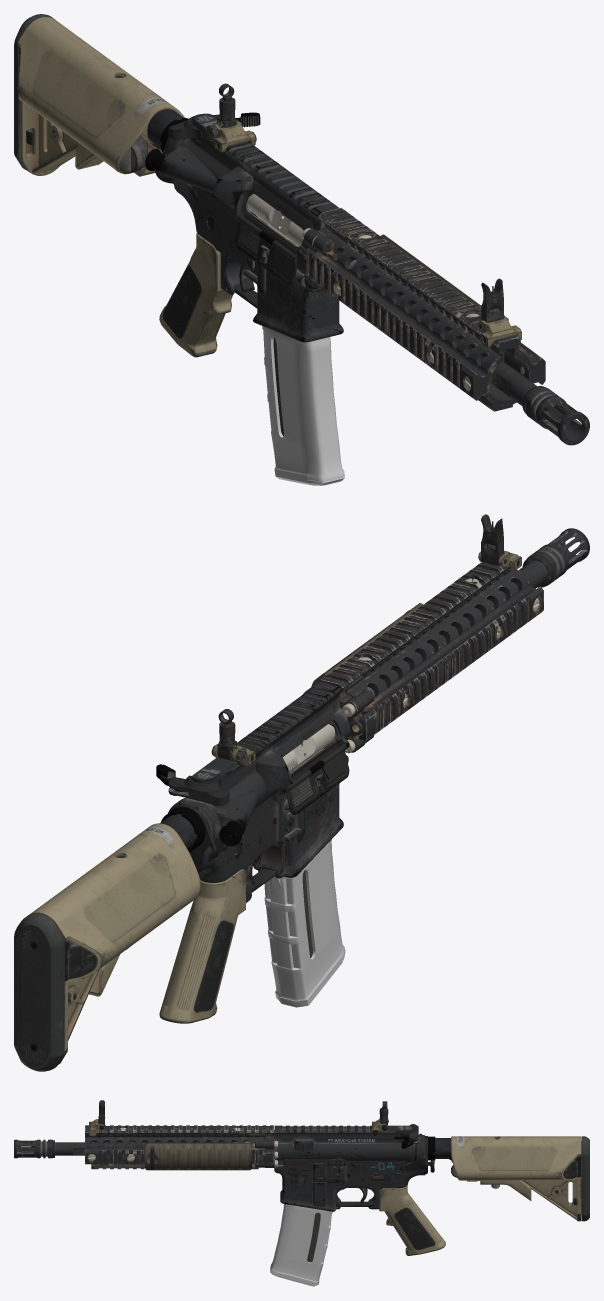
The picture shows the model from 3 angles, top to bottom: view 1: azimuth 30°, elevation 25°; view 2: azimuth 150°, elevation 25°; view 3: azimuth 270°, elevation 25°; orthographic projection. The views are drawn at different scales.
Visible parts, largest first — view 1: attachment_vm_ar_mike4_receiver.001, attachment_vm_ar_mike4_barrel.001, attachment_vm_ar_mike4_stock.001, attachment_vm_ar_mike4_mag.001, attachment_vm_ar_mike4_barrel_tip_01.001, attachment_vm_ar_mike4_ejectioncover_hide.001, attachment_vm_ar_mike4_tag_sight_on2_01.001, attachment_vm_ar_mike4_tag_sight_on.001; view 2: attachment_vm_ar_mike4_receiver.001, attachment_vm_ar_mike4_stock.001, attachment_vm_ar_mike4_barrel.001, attachment_vm_ar_mike4_mag.001, attachment_vm_ar_mike4_ejectioncover_hide.001, attachment_vm_ar_mike4_barrel_tip_01.001, attachment_vm_ar_mike4_tag_sight_on2_01.001, attachment_vm_ar_mike4_tag_sight_on.001; view 3: attachment_vm_ar_mike4_receiver.001, attachment_vm_ar_mike4_barrel.001, attachment_vm_ar_mike4_stock.001, attachment_vm_ar_mike4_mag.001, attachment_vm_ar_mike4_barrel_tip_01.001, attachment_vm_ar_mike4_tag_sight_on.001, attachment_vm_ar_mike4_tag_sight_on2_01.001.
Boxes of the visible parts, bbox=[...] form: attachment_vm_ar_mike4_receiver.001: bbox=[145, 112, 343, 357]; attachment_vm_ar_mike4_barrel.001: bbox=[295, 207, 545, 413]; attachment_vm_ar_mike4_stock.001: bbox=[14, 14, 185, 176]; attachment_vm_ar_mike4_mag.001: bbox=[262, 225, 344, 485]; attachment_vm_ar_mike4_barrel_tip_01.001: bbox=[526, 387, 589, 445]; attachment_vm_ar_mike4_ejectioncover_hide.001: bbox=[235, 214, 296, 285]; attachment_vm_ar_mike4_tag_sight_on2_01.001: bbox=[478, 278, 521, 347]; attachment_vm_ar_mike4_tag_sight_on.001: bbox=[206, 83, 256, 152]; attachment_vm_ar_mike4_receiver.001: bbox=[156, 681, 350, 1023]; attachment_vm_ar_mike4_stock.001: bbox=[14, 814, 200, 1071]; attachment_vm_ar_mike4_barrel.001: bbox=[303, 553, 553, 753]; attachment_vm_ar_mike4_mag.001: bbox=[264, 748, 345, 1007]; attachment_vm_ar_mike4_ejectioncover_hide.001: bbox=[282, 744, 349, 814]; attachment_vm_ar_mike4_barrel_tip_01.001: bbox=[527, 528, 589, 585]; attachment_vm_ar_mike4_tag_sight_on2_01.001: bbox=[478, 514, 521, 570]; attachment_vm_ar_mike4_tag_sight_on.001: bbox=[211, 709, 255, 765]; attachment_vm_ar_mike4_receiver.001: bbox=[274, 1124, 445, 1255]; attachment_vm_ar_mike4_barrel.001: bbox=[52, 1125, 277, 1170]; attachment_vm_ar_mike4_stock.001: bbox=[433, 1136, 589, 1221]; attachment_vm_ar_mike4_mag.001: bbox=[270, 1204, 332, 1286]; attachment_vm_ar_mike4_barrel_tip_01.001: bbox=[14, 1139, 52, 1158]; attachment_vm_ar_mike4_tag_sight_on.001: bbox=[372, 1101, 388, 1136]; attachment_vm_ar_mike4_tag_sight_on2_01.001: bbox=[89, 1100, 105, 1136].
Bounding box in the file's own units: 329 × 1083 × 3105.
